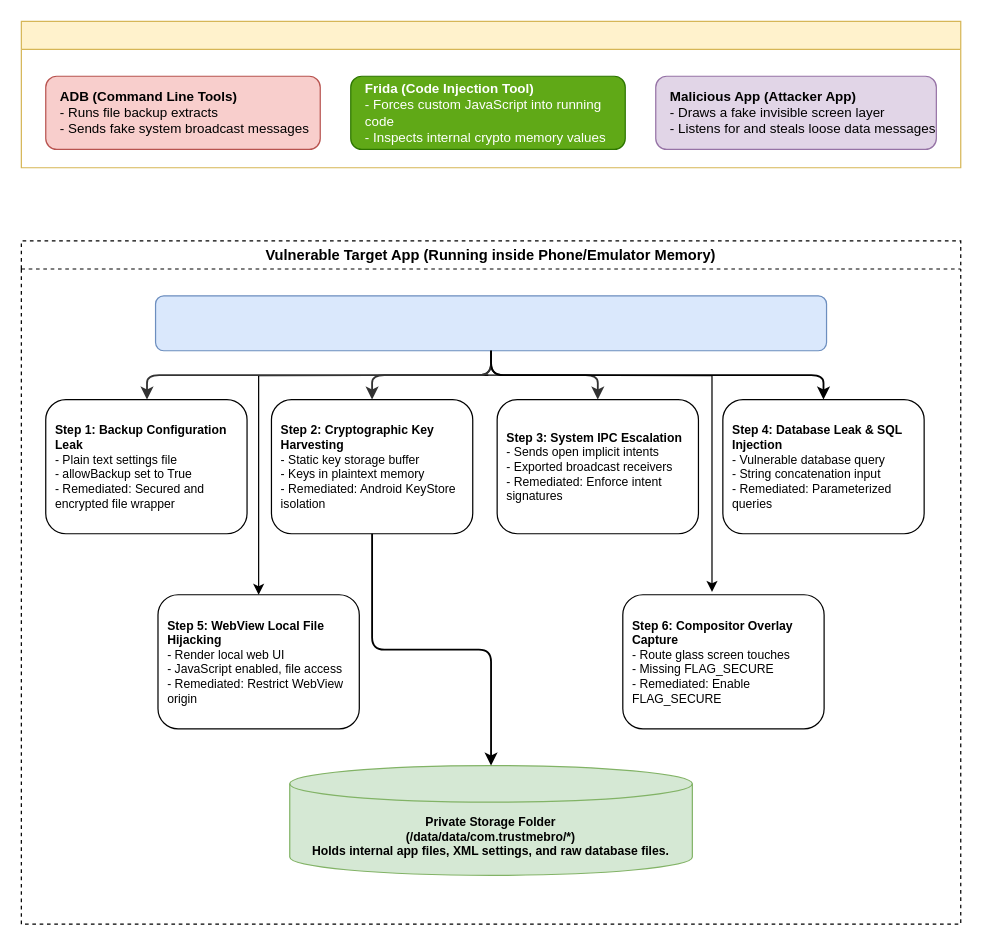
The diagram is 982 pixels wide and 946 high, and some of its shapes have lost their labels. Here are the shapes that lost their labels. From the top down, the box of each, then its label:
(20, 20, 961, 168): Attacker (Physical Access)
(154, 295, 827, 351): Main Menu Dashboard Screen (App UI Navigation Hub)
